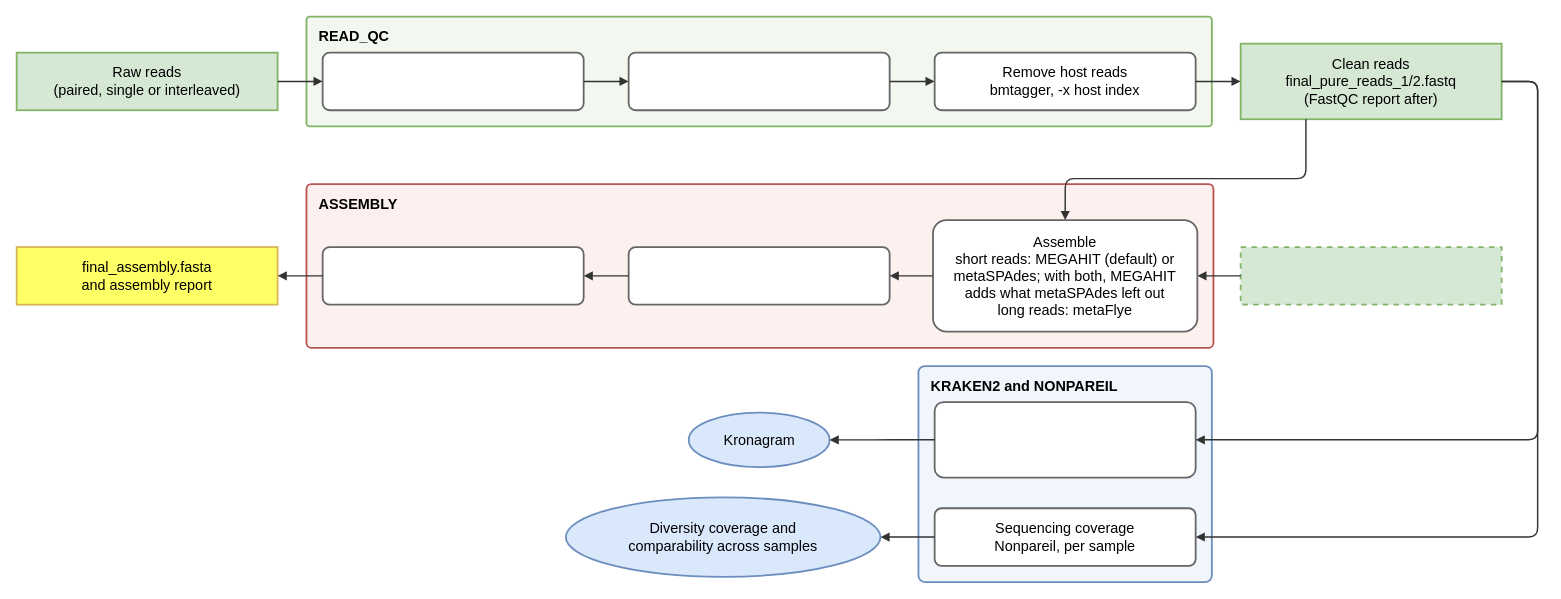
Image size: 1561x599. Some labels were removed from this diagram. Here are the shapes that lost their labels. From the top down, the centre of each, then its label:
At pixel 452 81: "FastQC report on the raw reads".
At pixel 758 81: "Trim adapters and quality fastp (default) or Trim Galore".
At pixel 452 275: "Assembly statistics QUAST".
At pixel 758 275: "Sort contigs and drop those under -l (1,000 bp)".
At pixel 1370 275: "Long reads (-L) ONT or PacBio".
At pixel 1064 439: "Taxonomic profile Kraken2, reads or contigs; --bracken: abundance at a rank".
